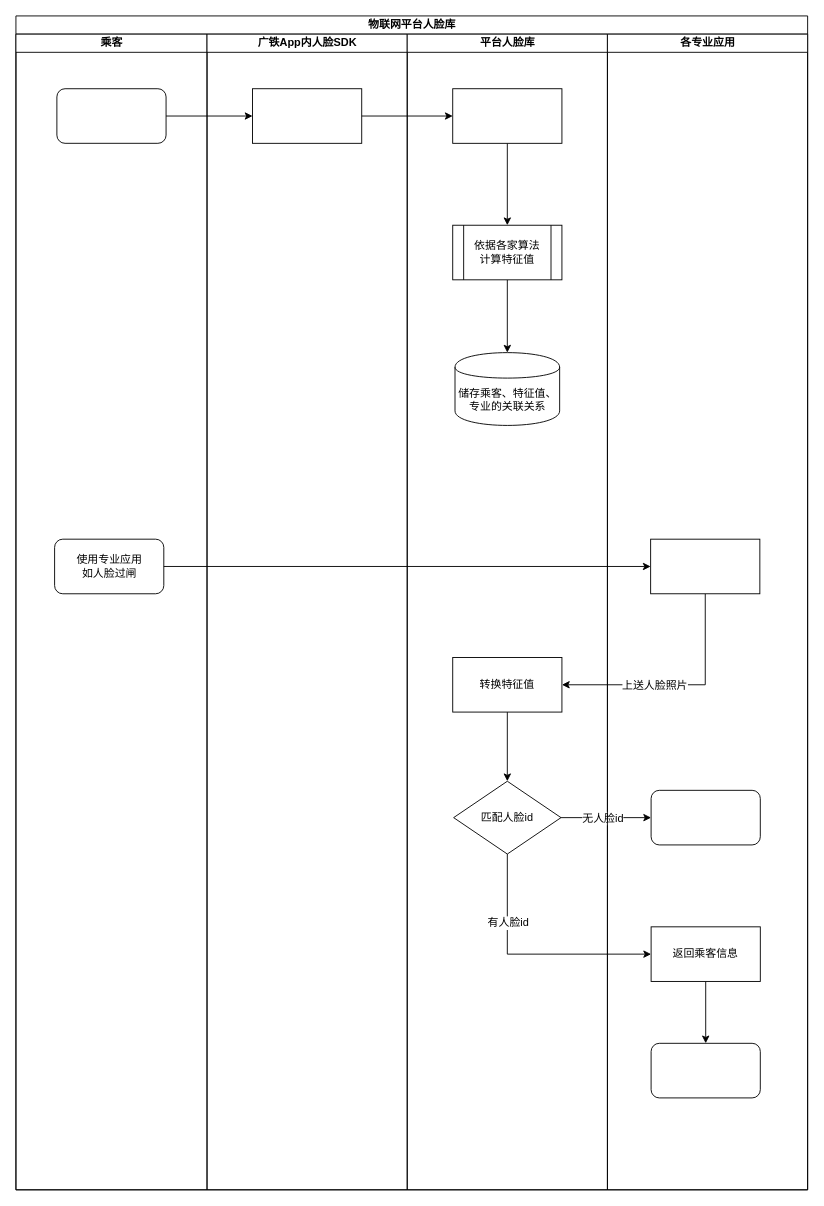
Image size: 824x1206. Some labels were removed from this diagram. Each missing label, with the centre of its shape:
"人脸录入" belongs at (111,115).
"各专业应用逻辑 如开闸、计算扣费" belongs at (705,1070).
"开通乘客人脸id" belongs at (507,115).
"未开通" belongs at (705,817).
"识别乘客 记录照片" belongs at (307,115).
"闸机人脸识别" belongs at (705,566).
